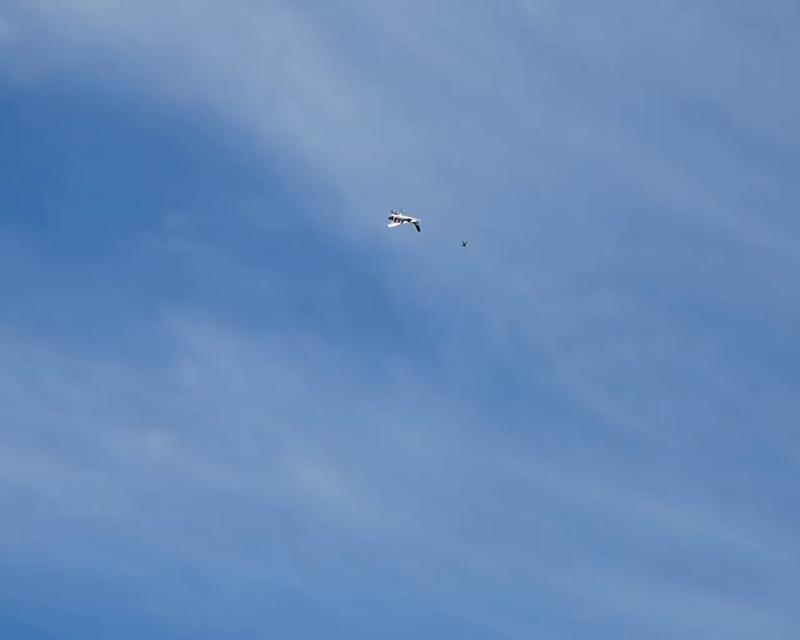UAV: (385, 206, 421, 232)
